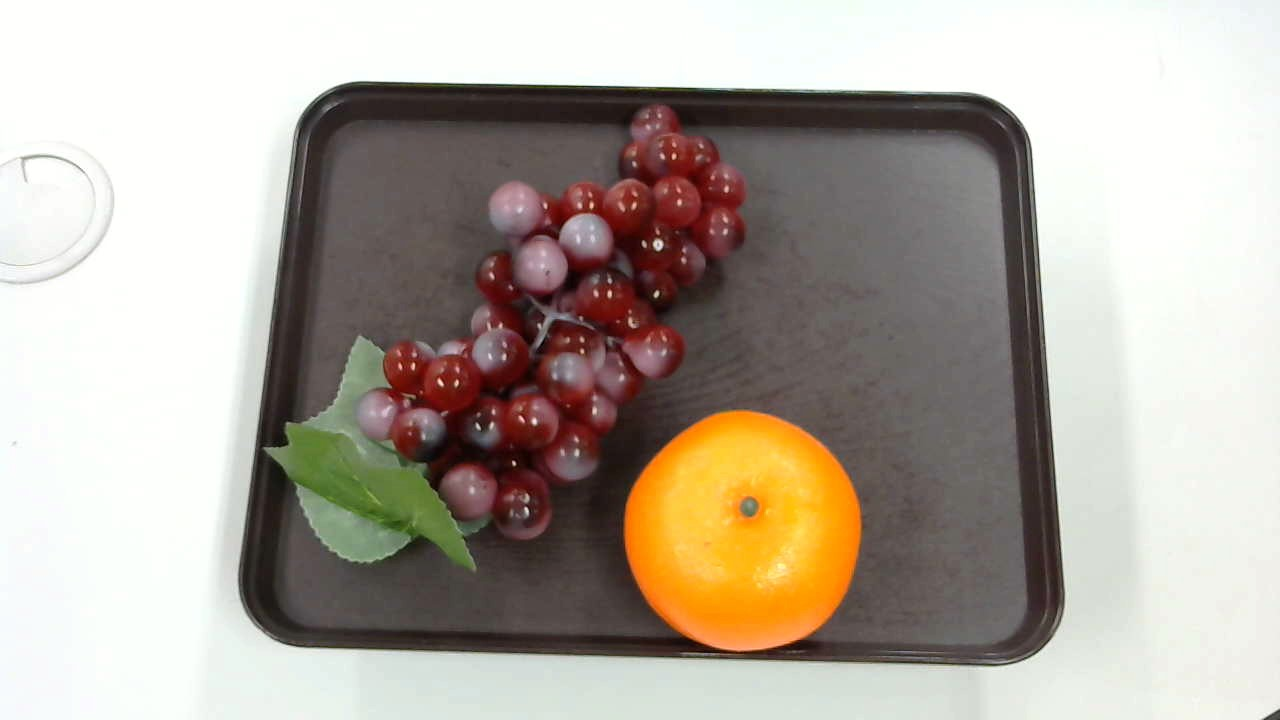grape: (256, 98, 754, 580)
orange: (618, 408, 868, 658)
